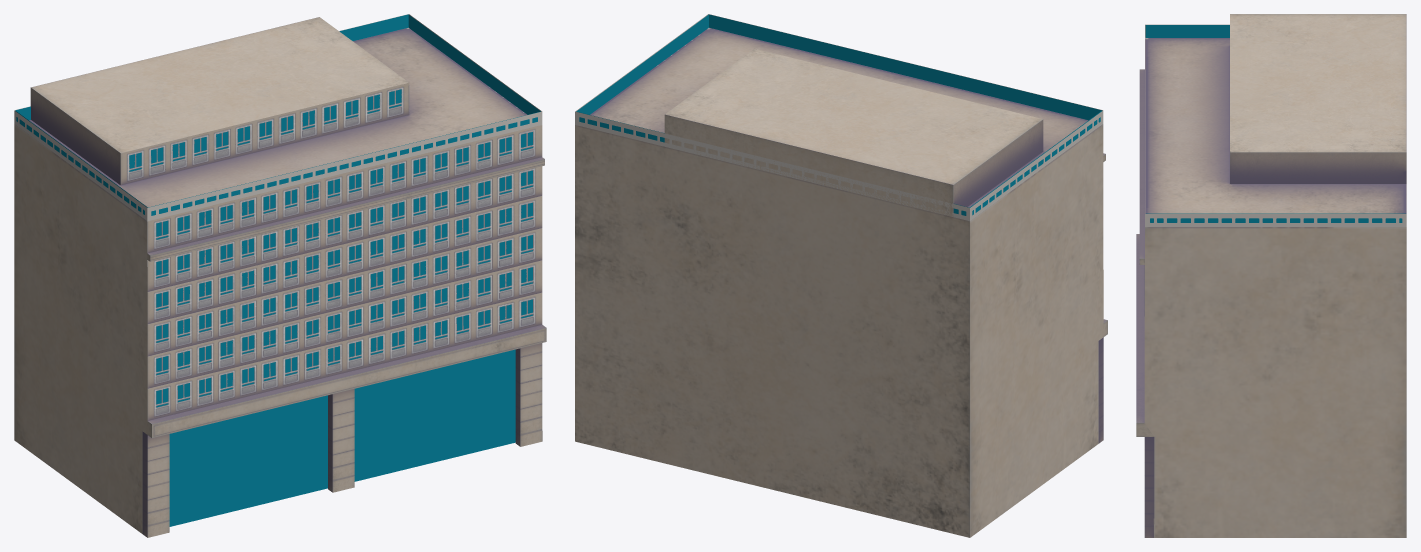
Rendered from BuildingMid01.fbx.
3 views of the same model, side by side, from view 1: azimuth 30°, elevation 25°; view 2: azimuth 150°, elevation 25°; view 3: azimuth 270°, elevation 25° (orthographic).
Parts seen in each view (by area): view 1: BuildMid01; view 2: BuildMid01; view 3: BuildMid01.
Part boxes in pixels (x1,y1,x2,y2): BuildMid01: [14, 14, 546, 537]; BuildMid01: [575, 14, 1107, 537]; BuildMid01: [1136, 14, 1406, 537].
Bounding box in the file's own units: 189 × 159 × 114.
Materials: 2 (1 with a texture image).
